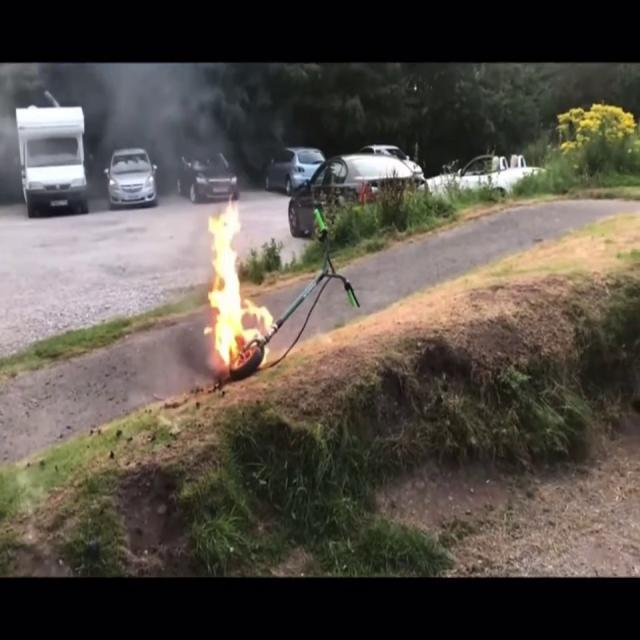Fire: (200, 200, 266, 370)
Smoke: (71, 63, 243, 184)
